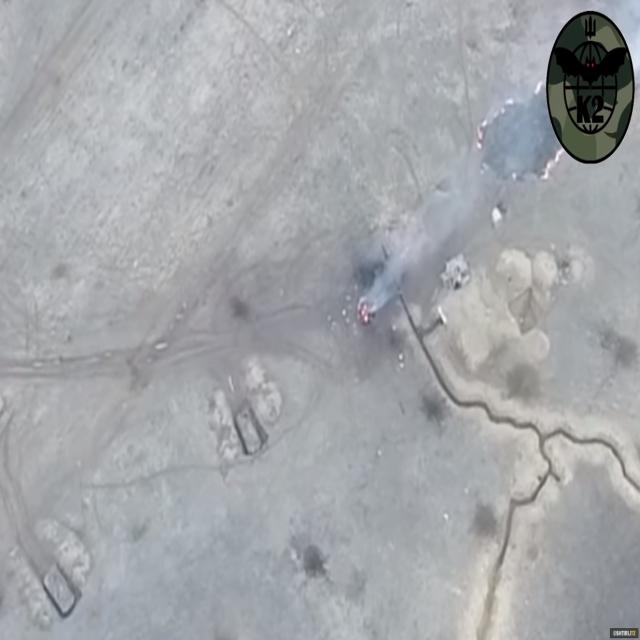apc: (43, 564, 75, 615), (236, 410, 261, 452)
